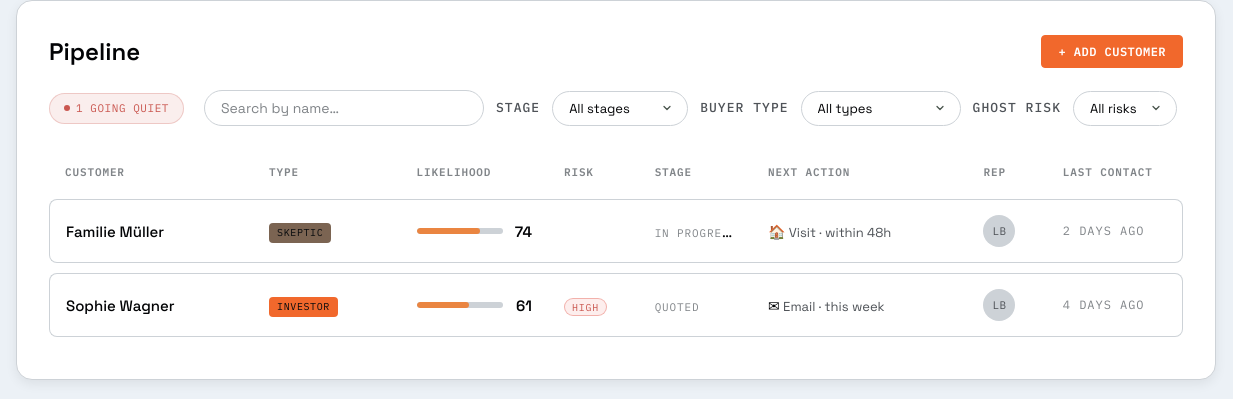
Test: Dashboard › search filters rows by customer name (case-insensitive)
This screenshot has width=1233, height=399.
Expected: the text "Familie Müller" is shown, [66,222,164,241]
Type "Sophie" into the search field. click: (344, 108)
box: [204,90,484,126]
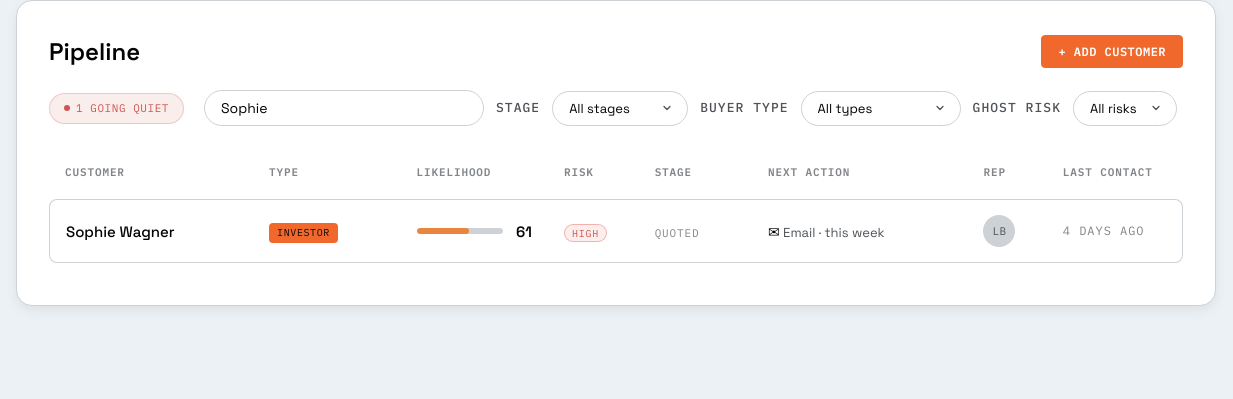
Expected: the text "Sophie Wagner" is shown, [66,222,175,241]
Now the text "Familie Müller" is gone
